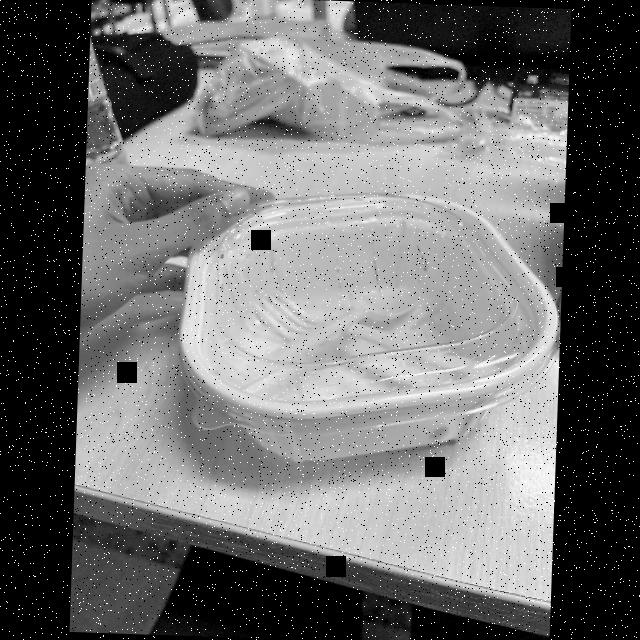plastic_box: (156, 181, 564, 472)
